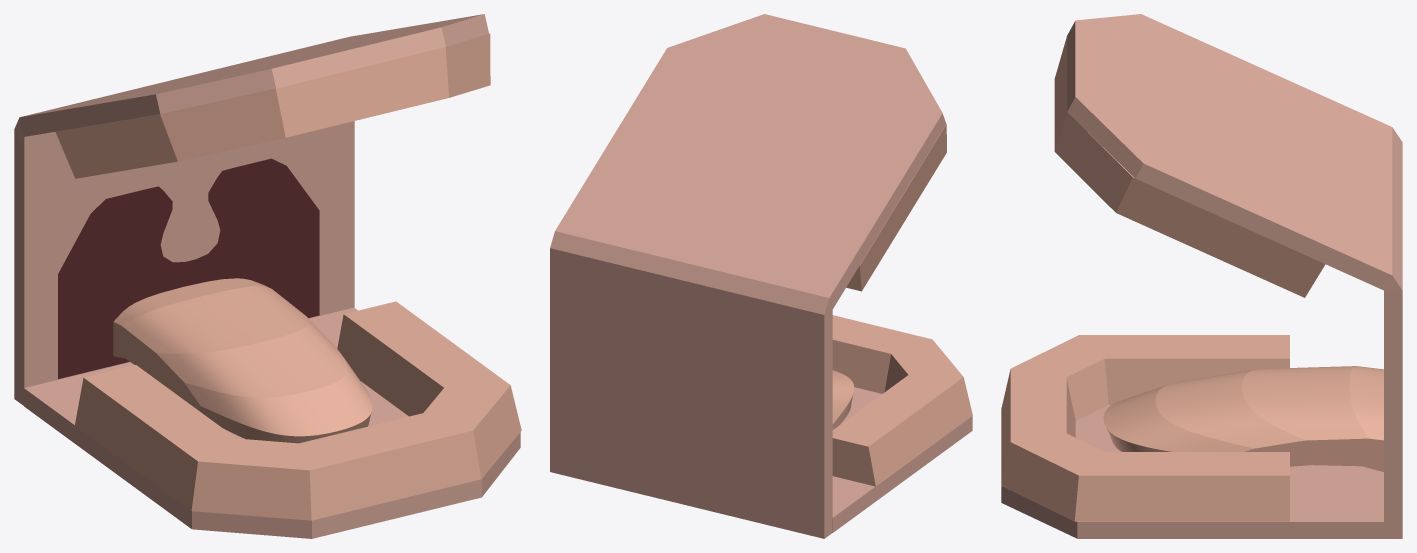
3 views of the same model, side by side, from view 1: azimuth 30°, elevation 25°; view 2: azimuth 150°, elevation 25°; view 3: azimuth 270°, elevation 25° (orthographic). The views are drawn at different scales.
Parts seen in each view (by area): view 1: 개체_7.003, 개체_9, 개체_3.003, 개체_4.003, 개체_5.003, 개체_6.003, 개체_1.003, 개체_2.003; view 2: 개체_6.003, 개체_4.003, 개체_7.003, 개체_8, 개체_1.003, 개체_5.003, 개체_9; view 3: 개체_6.003, 개체_7.003, 개체_9, 개체_1.003, 개체_5.003, 개체_4.003, 개체_8.
Part boxes in pixels (bbox=[...]): 개체_7.003: bbox=[75, 301, 521, 520]; 개체_9: bbox=[113, 278, 372, 443]; 개체_3.003: bbox=[58, 158, 319, 379]; 개체_4.003: bbox=[14, 121, 354, 405]; 개체_5.003: bbox=[55, 33, 490, 178]; 개체_6.003: bbox=[19, 14, 488, 136]; 개체_1.003: bbox=[24, 307, 520, 538]; 개체_2.003: bbox=[85, 136, 292, 262]; 개체_6.003: bbox=[555, 14, 946, 308]; 개체_4.003: bbox=[550, 248, 832, 538]; 개체_7.003: bbox=[832, 315, 972, 486]; 개체_8: bbox=[550, 231, 832, 317]; 개체_1.003: bbox=[832, 387, 972, 532]; 개체_5.003: bbox=[846, 123, 946, 291]; 개체_9: bbox=[832, 370, 854, 429]; 개체_6.003: bbox=[1067, 14, 1392, 290]; 개체_7.003: bbox=[1001, 335, 1289, 521]; 개체_9: bbox=[1103, 366, 1383, 471]; 개체_1.003: bbox=[1001, 405, 1383, 538]; 개체_5.003: bbox=[1054, 35, 1325, 297]; 개체_4.003: bbox=[1384, 290, 1402, 538]; 개체_8: bbox=[1379, 127, 1402, 290].
Size of the model in its own units: 3.78 by 4.81 by 4.31.
